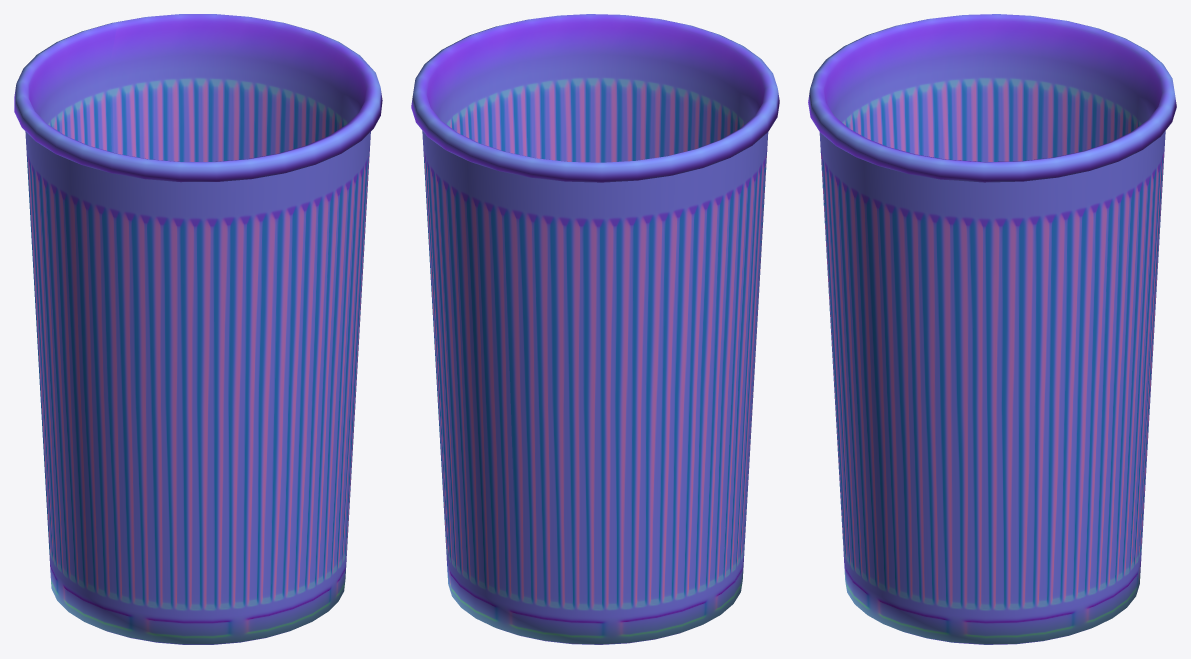
Rendered from Plastic_Cup-(COLLADA_2 (COLLAborative Design Activity)).dae.
3 views of the same model, side by side, from view 1: azimuth 30°, elevation 25°; view 2: azimuth 150°, elevation 25°; view 3: azimuth 270°, elevation 25° (orthographic).
Visible parts, largest first — view 1: Plastic_Cup; view 2: Plastic_Cup; view 3: Plastic_Cup.
Part boxes in pixels (<box>): Plastic_Cup: <box>14,14,382,644</box>; Plastic_Cup: <box>411,14,779,644</box>; Plastic_Cup: <box>808,14,1176,644</box>.
Size of the model in its own units: 1.54 by 1.54 by 2.29.
Materials: 1 (1 with a texture image).
